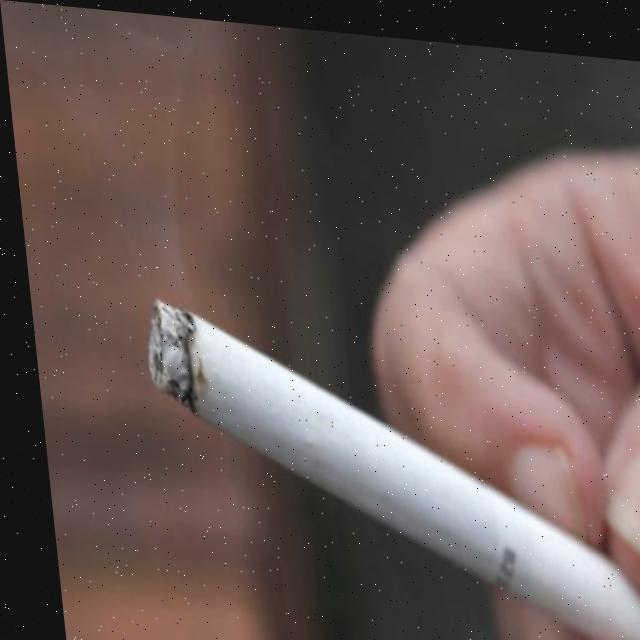cigarette: (132, 294, 640, 640)
